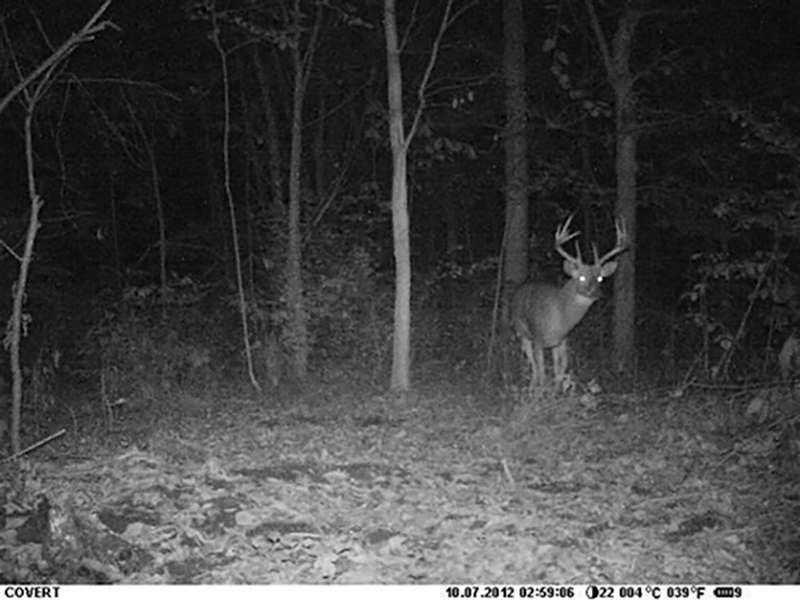cervo: (493, 222, 639, 392)
